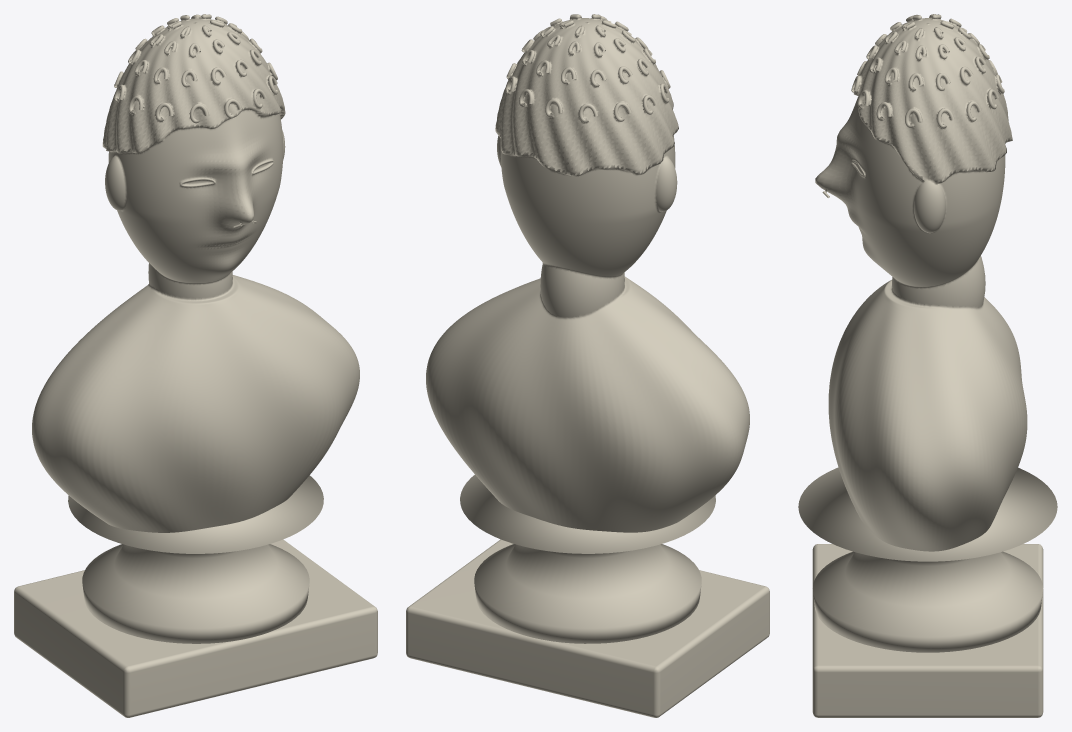
File: Bust_Sculpture.fbx
3 renders of one model, left to right at view 1: azimuth 30°, elevation 25°; view 2: azimuth 150°, elevation 25°; view 3: azimuth 270°, elevation 25°, orthographic.
Parts seen in each view (by area): view 1: Unified carved portrait bust.001, Stone bust square plinth.001, Turned bust socle.001, Sculpted facial anatomy.001, Carved wavy hair cap.001, Anatomical neck.001, Carved ear.002; view 2: Unified carved portrait bust.001, Stone bust square plinth.001, Turned bust socle.001, Sculpted facial anatomy.001, Carved wavy hair cap.001, Anatomical neck.001, Carved ear.002; view 3: Unified carved portrait bust.001, Turned bust socle.001, Stone bust square plinth.001, Sculpted facial anatomy.001, Carved wavy hair cap.001, Anatomical neck.001, Carved ear.003.
Boxes of the visible parts, left/top/right/bottom form: Unified carved portrait bust.001: left=32, top=17, right=359, bottom=532; Stone bust square plinth.001: left=14, top=539, right=377, bottom=717; Turned bust socle.001: left=68, top=475, right=323, bottom=643; Sculpted facial anatomy.001: left=108, top=111, right=283, bottom=282; Carved wavy hair cap.001: left=102, top=18, right=285, bottom=153; Anatomical neck.001: left=148, top=263, right=232, bottom=299; Carved ear.002: left=105, top=156, right=125, bottom=210; Unified carved portrait bust.001: left=426, top=14, right=749, bottom=532; Stone bust square plinth.001: left=406, top=539, right=769, bottom=717; Turned bust socle.001: left=460, top=475, right=715, bottom=643; Sculpted facial anatomy.001: left=500, top=136, right=675, bottom=276; Carved wavy hair cap.001: left=495, top=18, right=678, bottom=176; Anatomical neck.001: left=540, top=265, right=624, bottom=317; Carved ear.002: left=656, top=157, right=677, bottom=211; Unified carved portrait bust.001: left=818, top=14, right=1027, bottom=551; Turned bust socle.001: left=798, top=467, right=1057, bottom=652; Stone bust square plinth.001: left=812, top=544, right=1043, bottom=717; Sculpted facial anatomy.001: left=815, top=97, right=1005, bottom=286; Carved wavy hair cap.001: left=853, top=18, right=1012, bottom=183; Anatomical neck.001: left=892, top=255, right=985, bottom=307; Carved ear.003: left=914, top=181, right=945, bottom=233.
Bounding box in the file's own units: 0.2015 × 0.3894 × 0.144.
